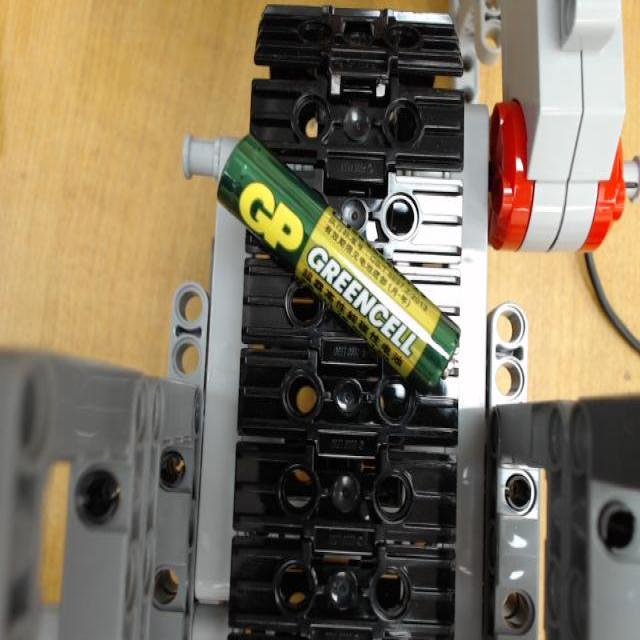AAA: (212, 135, 461, 393)
